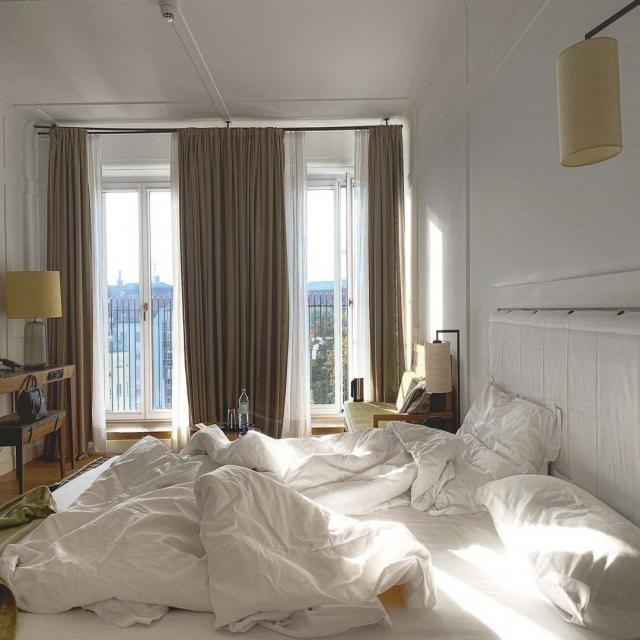bed: (10, 384, 640, 639)
